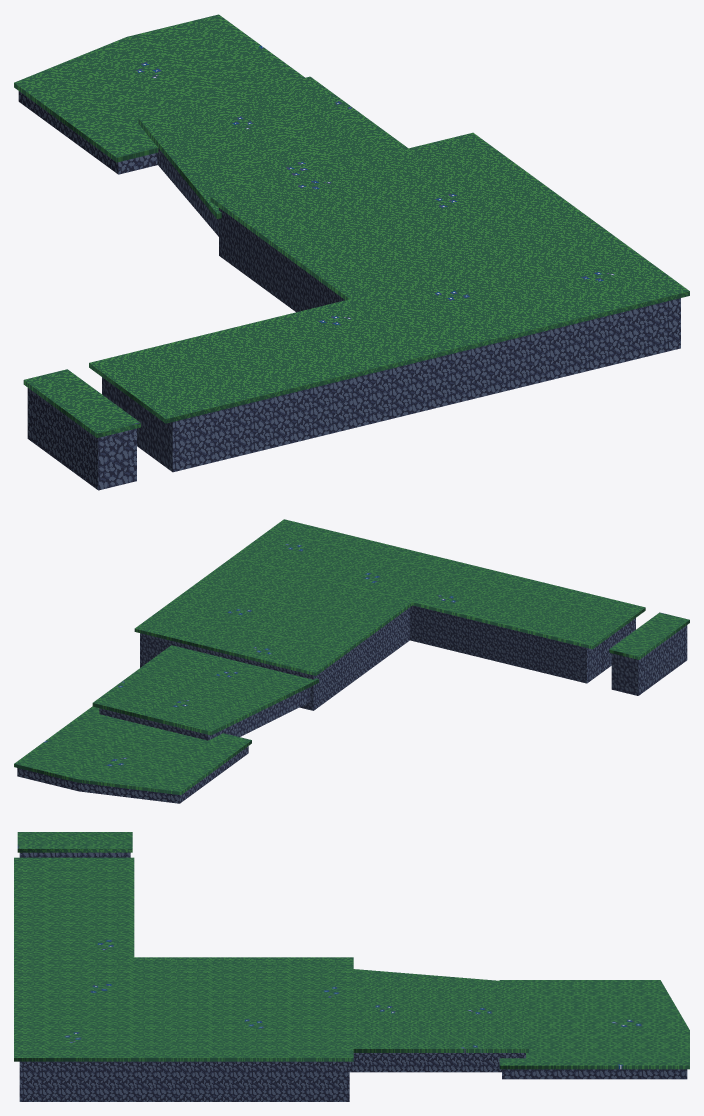
The model's file is Labirinto1.fbx.
3 renders of one model, top to bottom at view 1: azimuth 30°, elevation 25°; view 2: azimuth 150°, elevation 25°; view 3: azimuth 270°, elevation 25°, orthographic. The views are drawn at different scales.
Parts seen in each view (by area): view 1: Labirinto1; view 2: Labirinto1; view 3: Labirinto1.
Part boxes in pixels (left/top/right/bottom): Labirinto1: left=14, top=14, right=689, bottom=490; Labirinto1: left=14, top=519, right=689, bottom=803; Labirinto1: left=14, top=832, right=689, bottom=1101.
Bounding box in the file's own units: 8708 × 11014 × 824.
